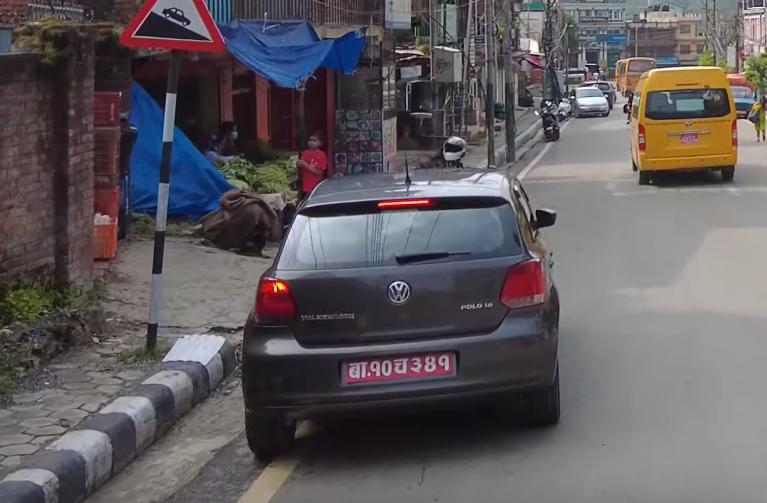car: (243, 159, 574, 449), (565, 84, 608, 117)
school_bus: (628, 63, 742, 191), (614, 48, 660, 95)
